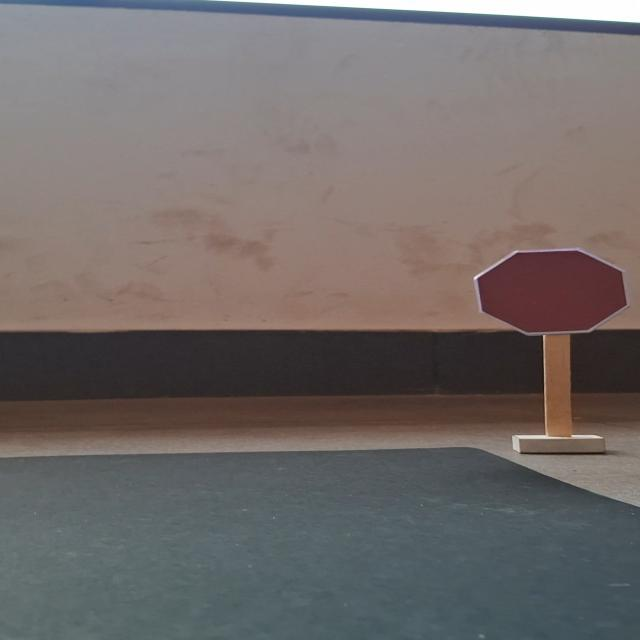Stop: (469, 247, 633, 335)
